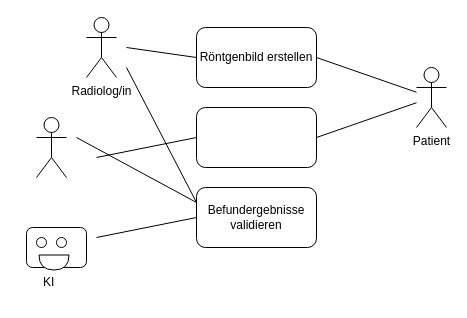
This 467x318 diagram has some shape labels left out. Each missing label, with the box of its shape:
Diagnose besprechen: (196, 106, 316, 168)
Orthopäde/in: (36, 116, 66, 178)
